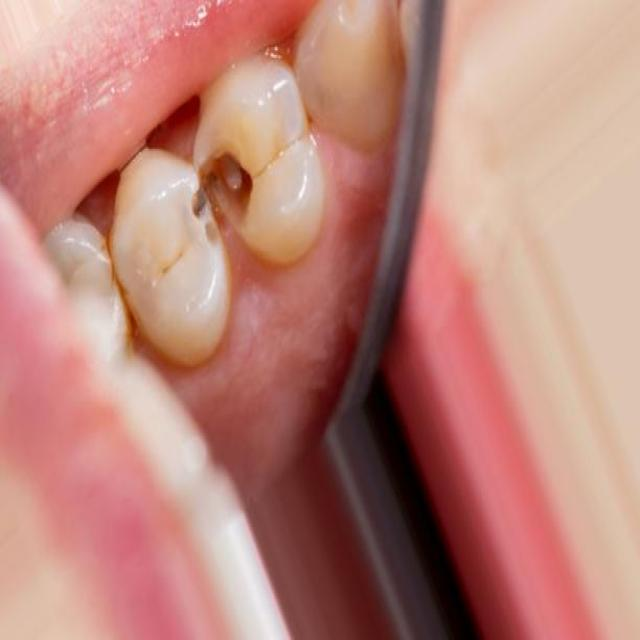caries: (175, 138, 272, 271)
